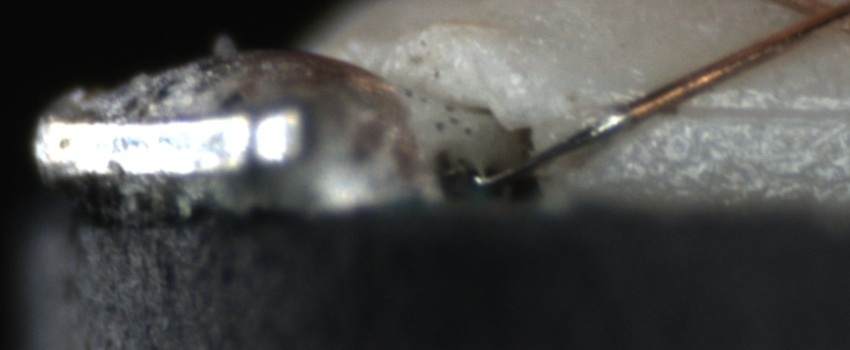DL: (659, 82, 849, 138)
TS: (469, 111, 631, 186)
TTCW: (472, 84, 683, 186)
